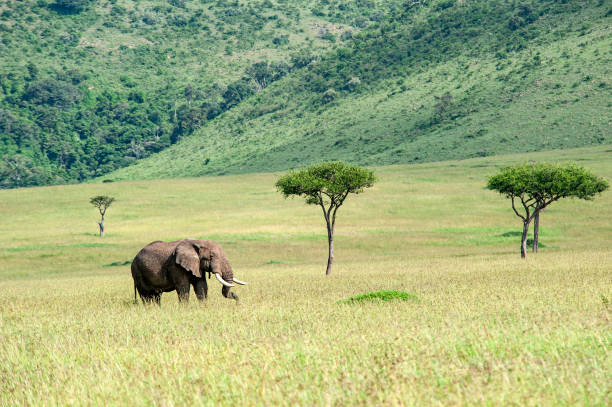africanelephant: (192, 240, 243, 288)
